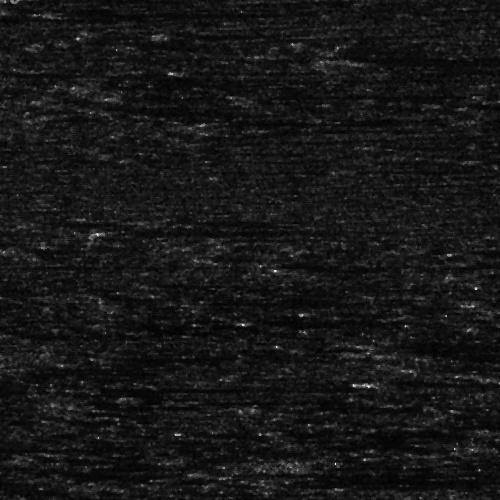object: (82, 227, 155, 234), (217, 90, 280, 95), (303, 51, 324, 64), (37, 10, 58, 13), (378, 380, 389, 385)
shadow: (119, 227, 352, 234), (47, 10, 388, 13), (313, 51, 388, 64), (249, 90, 402, 95), (0, 443, 76, 452), (384, 380, 500, 385)
